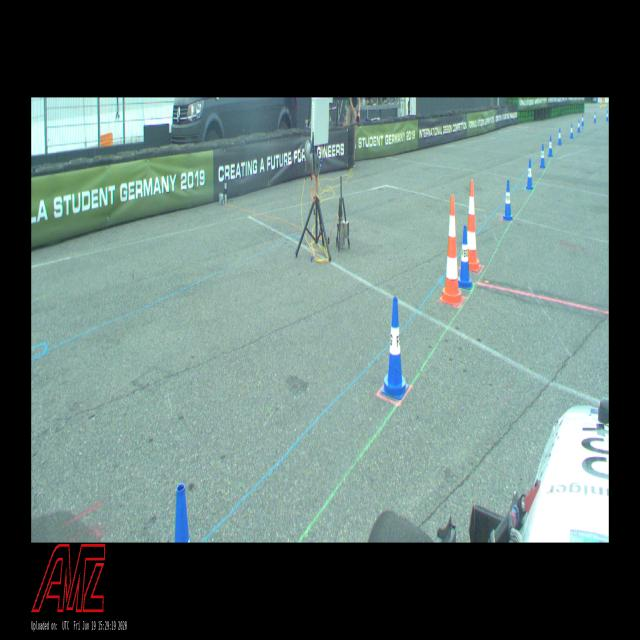blue_cone: (381, 297, 409, 399), (458, 226, 473, 290), (503, 180, 513, 221), (526, 160, 533, 190), (540, 144, 546, 168), (548, 136, 553, 156), (558, 128, 562, 145), (570, 124, 573, 138), (577, 120, 580, 132), (581, 115, 584, 126), (594, 112, 596, 122), (606, 111, 608, 120)
large_orange_cone: (440, 196, 464, 306), (467, 180, 481, 271)
